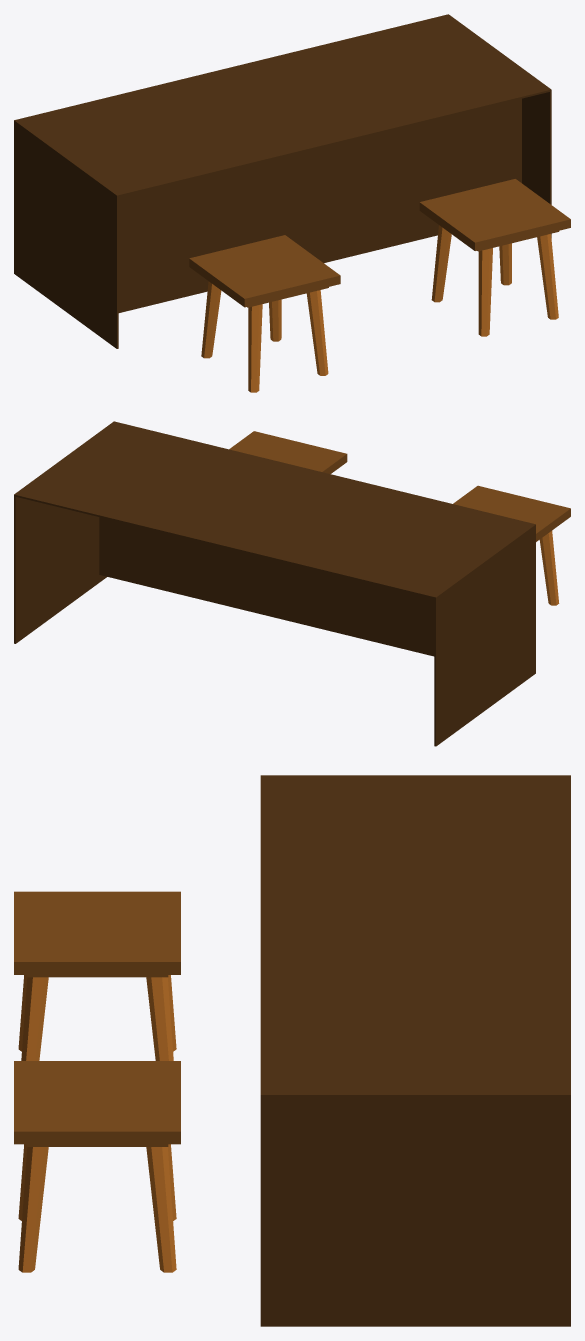
The model's file is Meja .fbx.
3 renders of one model, top to bottom at view 1: azimuth 30°, elevation 25°; view 2: azimuth 150°, elevation 25°; view 3: azimuth 270°, elevation 25°, orthographic. The views are drawn at different scales.
Visible parts, largest first — view 1: Plane.051, Plane.050; view 2: Plane.051, Plane.050; view 3: Plane.051, Plane.050.
Part boxes in pixels (bbox=[...]): Plane.051: bbox=[14, 14, 551, 348]; Plane.050: bbox=[189, 179, 570, 392]; Plane.051: bbox=[14, 421, 535, 746]; Plane.050: bbox=[229, 431, 570, 605]; Plane.051: bbox=[260, 775, 570, 1326]; Plane.050: bbox=[14, 891, 180, 1272].
Bounding box in the file's own units: 1970 × 665 × 1450.
